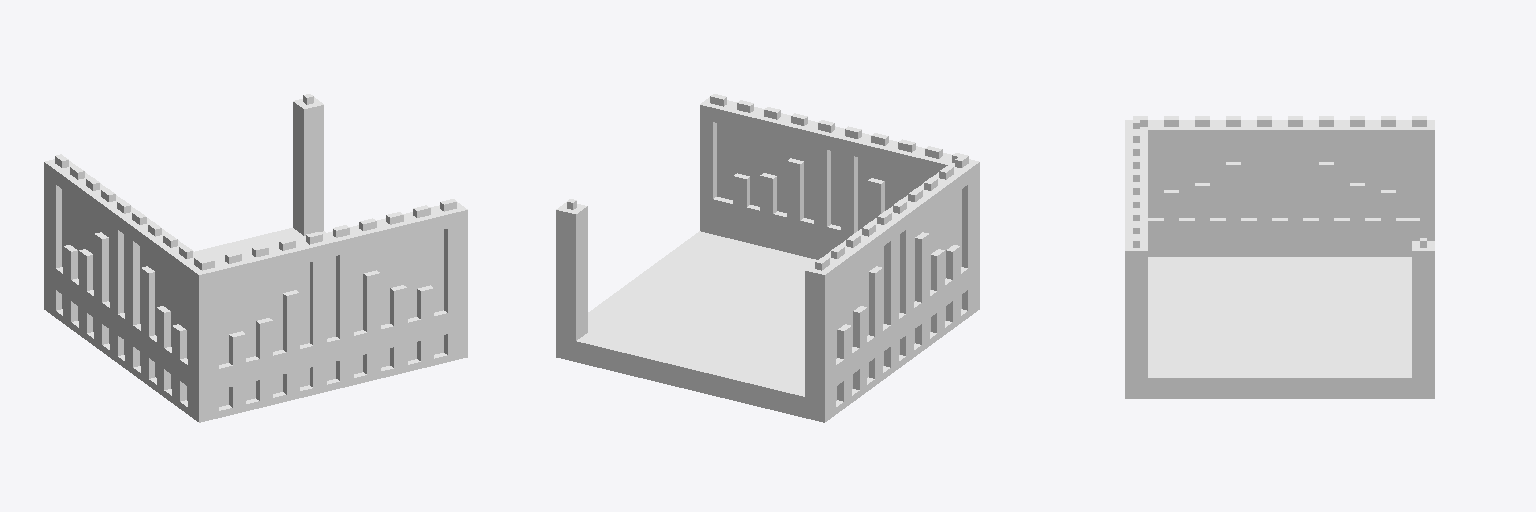
Rendered from Corner-1-Corner.obj.
3 views of the same model, side by side, from view 1: azimuth 30°, elevation 25°; view 2: azimuth 150°, elevation 25°; view 3: azimuth 270°, elevation 25° (orthographic).
Parts seen in each view (by area): view 1: Corner; view 2: Corner; view 3: Corner.
Boxes of the visible parts, x1,y1,x2,y2 form: Corner: [44, 94, 467, 422]; Corner: [556, 94, 979, 422]; Corner: [1125, 116, 1434, 398].
Bounding box in the file's own units: 4 × 2.2 × 4.